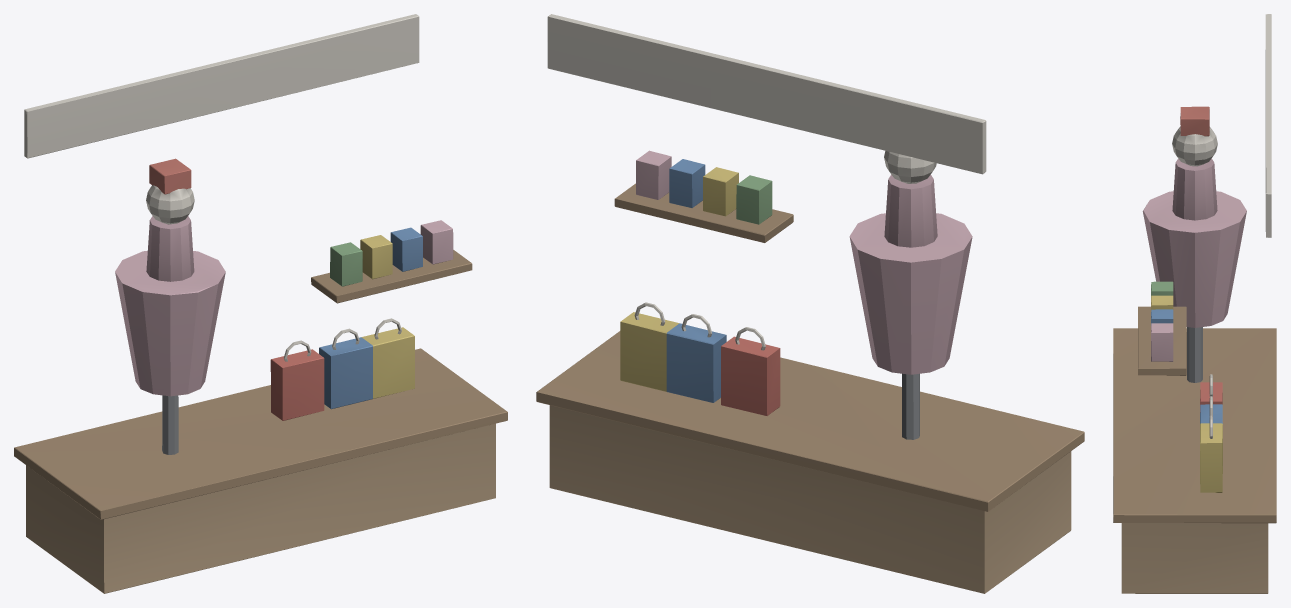
The model's file is store_window_low.glb.
3 renders of one model, left to right at view 1: azimuth 30°, elevation 25°; view 2: azimuth 150°, elevation 25°; view 3: azimuth 270°, elevation 25°, orthographic. The views are drawn at different scales.
Size of the model in its own units: 2.7 by 2.7 by 0.9973.
